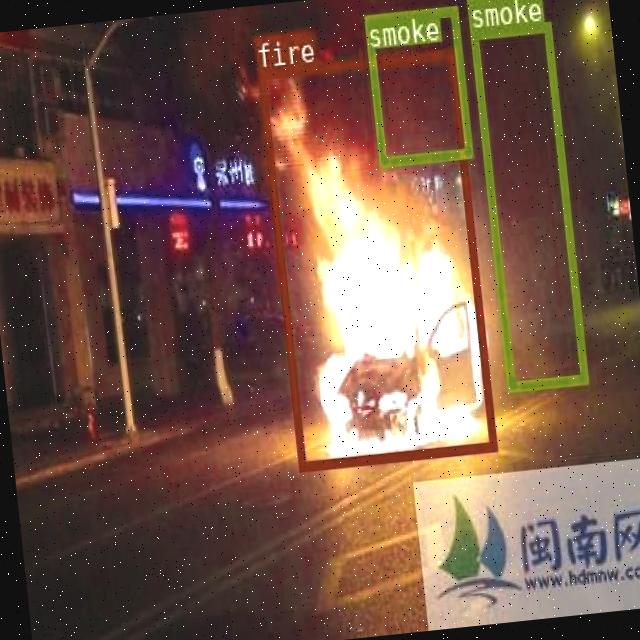fire: (256, 48, 496, 470)
smoke: (469, 20, 586, 390), (362, 3, 470, 165)
